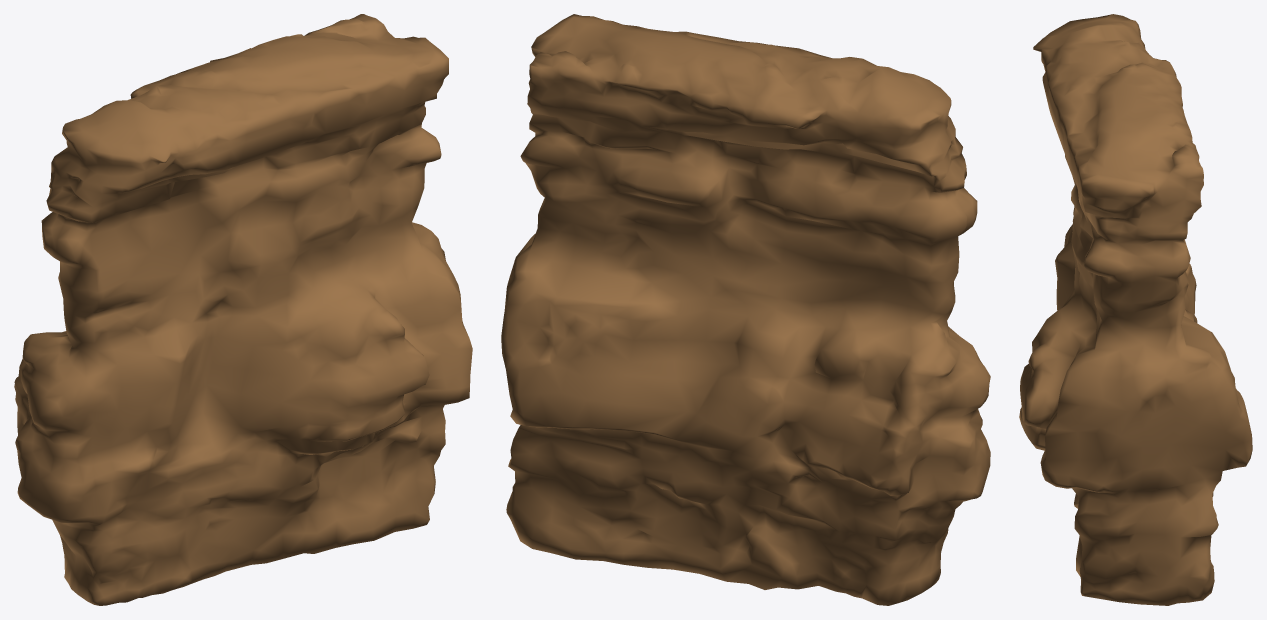
Rendered from MSH_Rocks_Cliff_07_a.FBX.
The picture shows the model from 3 angles, left to right: view 1: azimuth 30°, elevation 25°; view 2: azimuth 150°, elevation 25°; view 3: azimuth 270°, elevation 25°; orthographic projection. The views are drawn at different scales.
Visible parts, largest first — view 1: MESH_LOD0; view 2: MESH_LOD0; view 3: MESH_LOD0.
Boxes of the visible parts, <box> form: MESH_LOD0: <box>14,14,472,605</box>; MESH_LOD0: <box>501,14,990,605</box>; MESH_LOD0: <box>1019,14,1252,605</box>.
Size of what is drawn, in the model's own units: 444 by 474 by 222.
